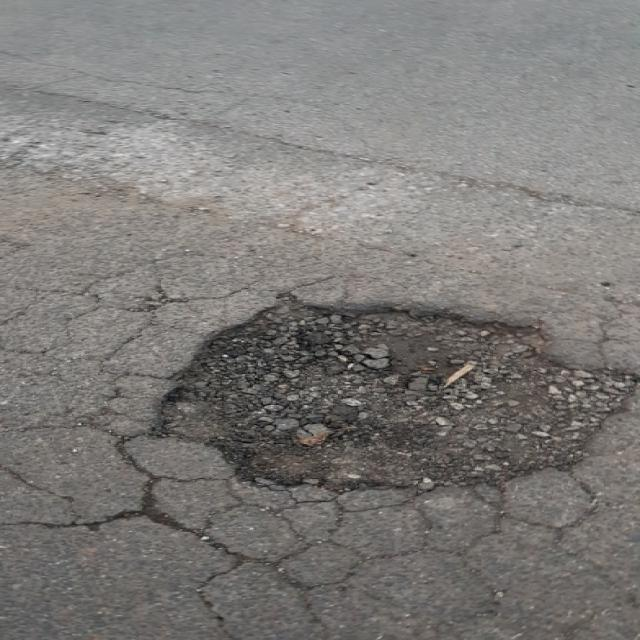Pothole: (131, 285, 637, 496)
